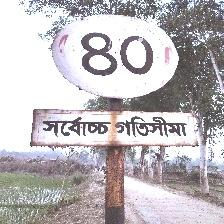Speed-limit: (35, 14, 192, 148)
